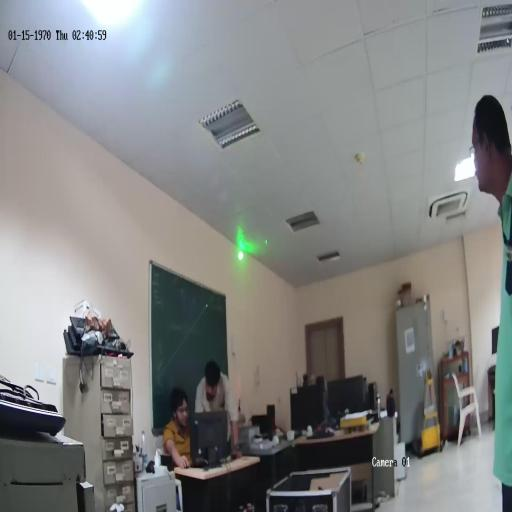laser: (236, 248, 244, 263)
